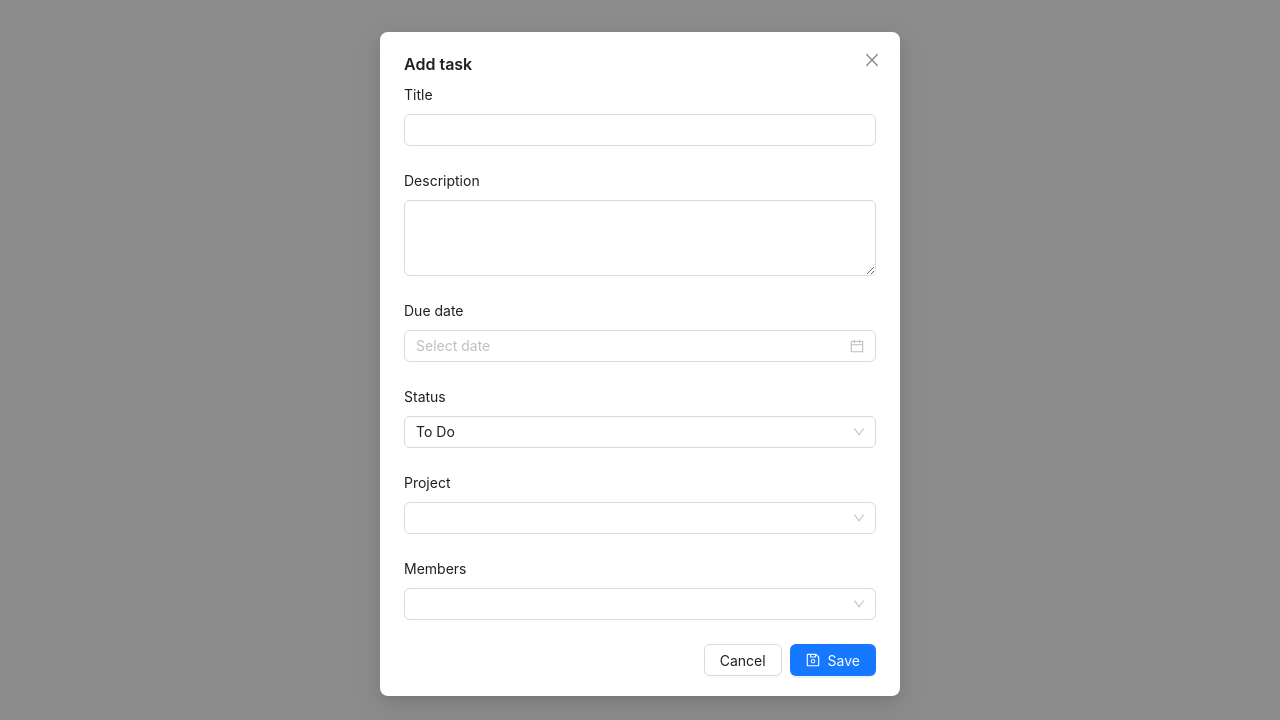
Scenario: TaskFormModal › requires the mandatory fields
The image size is (1280, 720).
(page scrolled)
Step 1. Click the button "Save" → {"x": 833, "y": 660}, box [790,644,876,676]
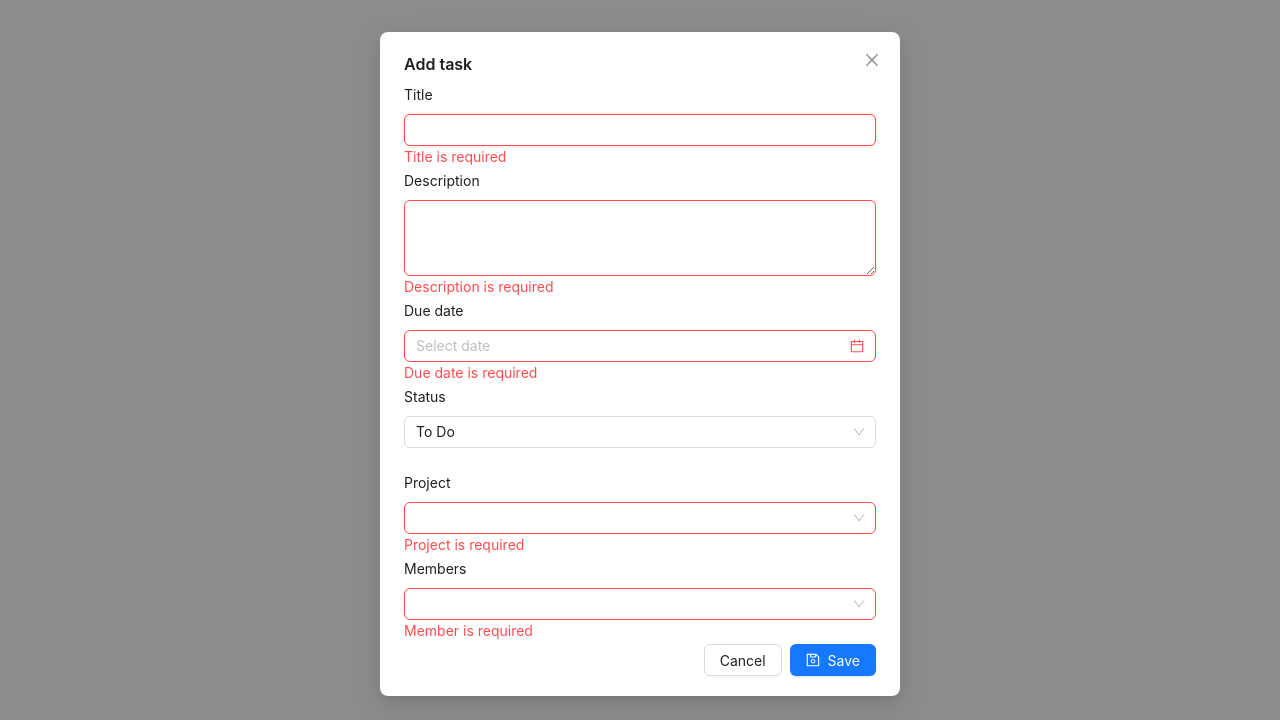
Check: the text "Title is required" is shown, box [404,148,506,165]
Check: the text "Project is required" is shown, box [404,536,524,553]
Check: the text "Member is required" is shown, box [404,622,533,639]
